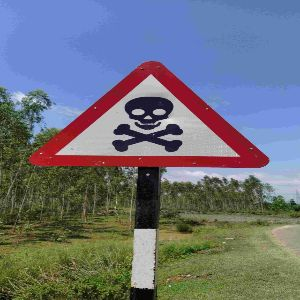Accident prone area: (24, 52, 278, 185)
